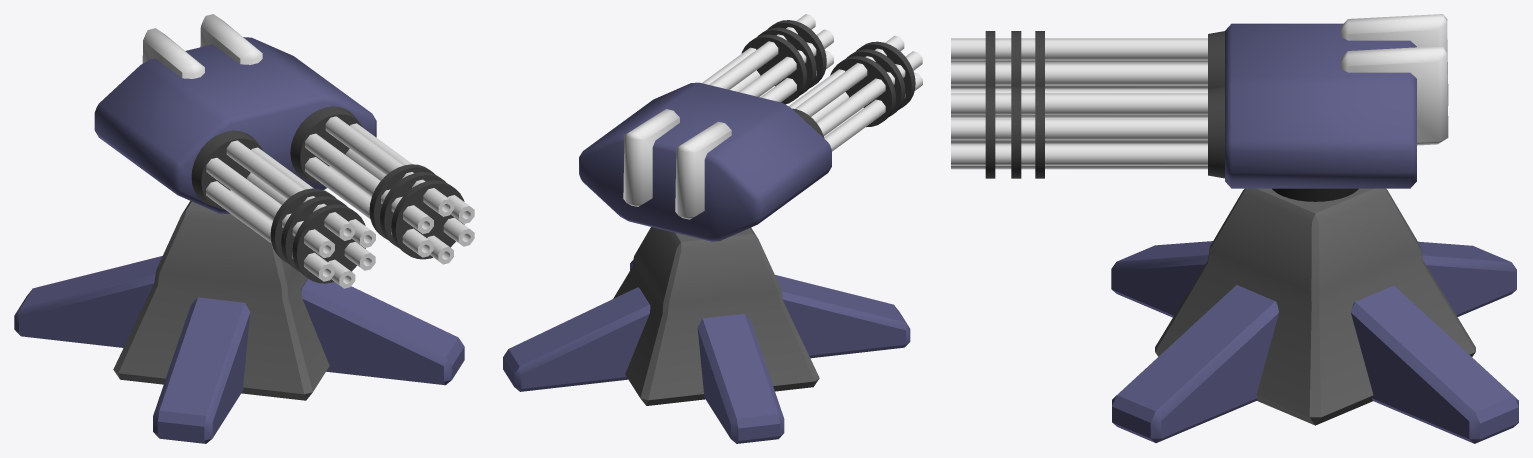
The model's file is gatt.fbx.
3 renders of one model, left to right at view 1: azimuth 30°, elevation 25°; view 2: azimuth 150°, elevation 25°; view 3: azimuth 270°, elevation 25°, orthographic. The views are drawn at different scales.
Parts seen in each view (by area): view 1: turret, base; view 2: base, turret; view 3: base, turret.
Boxes of the visible parts, bbox=[...] form: turret: bbox=[94, 14, 474, 288]; base: bbox=[14, 201, 464, 443]; base: bbox=[503, 227, 910, 443]; turret: bbox=[579, 14, 922, 241]; base: bbox=[1111, 188, 1518, 443]; turret: bbox=[951, 14, 1448, 188].
Bounding box in the file's own units: 6401 × 5716 × 8983.
